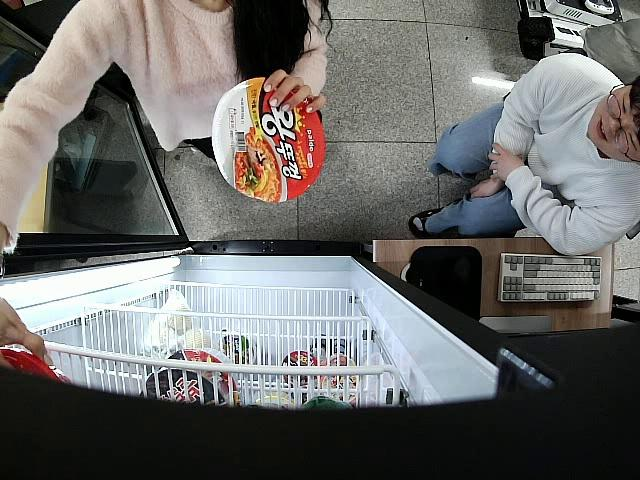00_hand: (263, 69, 327, 117)
10_wangTtukkeong: (211, 79, 326, 203)
